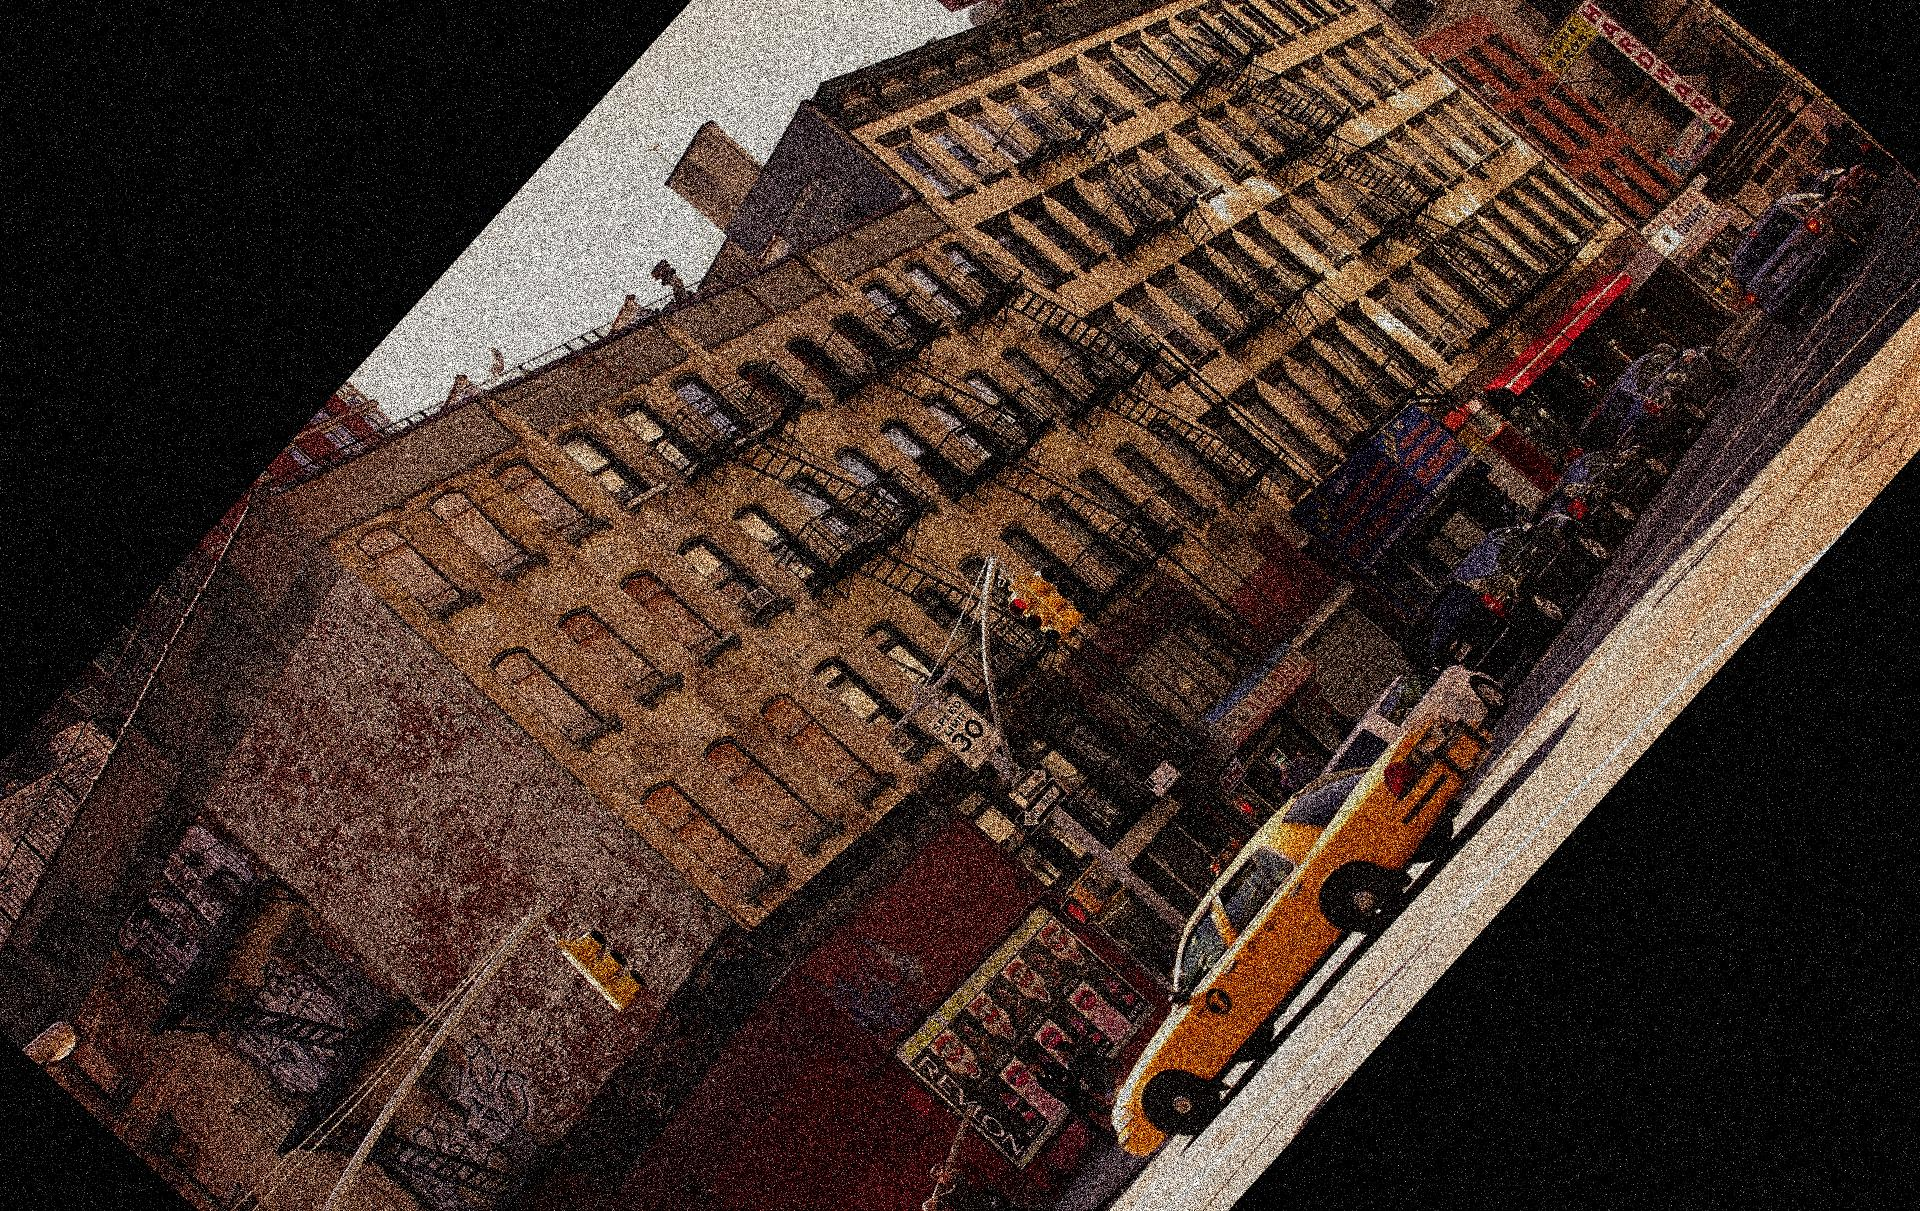taxi: (1105, 732, 1464, 1159)
